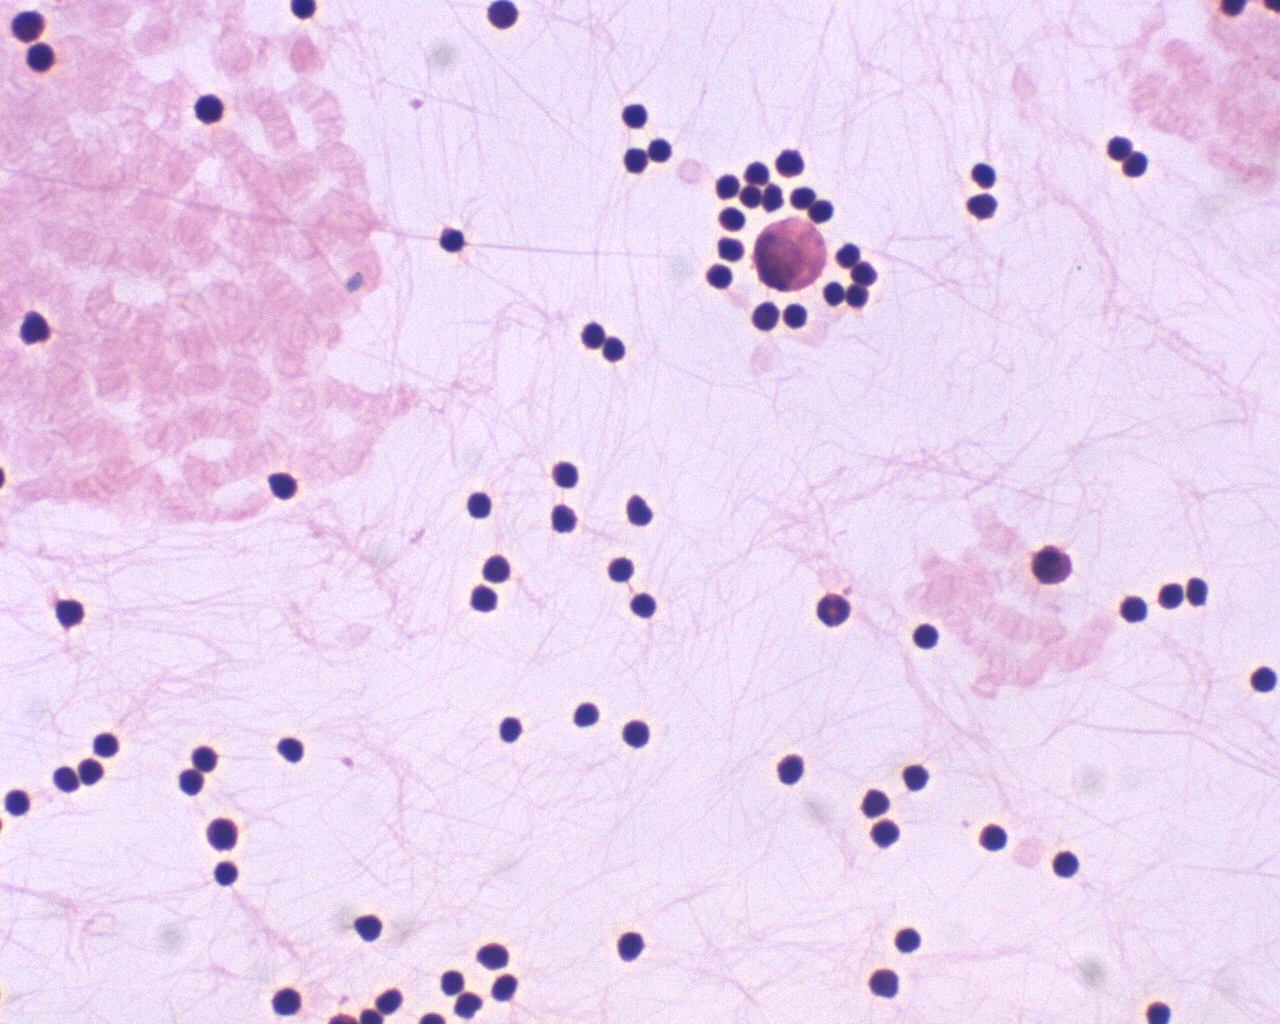lymph: (768, 748, 819, 795), (614, 711, 664, 757), (432, 215, 479, 262), (255, 466, 307, 505), (267, 982, 311, 1021), (623, 588, 665, 627), (188, 85, 227, 126), (543, 455, 586, 492), (612, 927, 652, 967), (463, 484, 501, 526), (907, 616, 949, 653), (749, 296, 784, 338), (23, 40, 60, 78), (479, 551, 519, 585), (602, 554, 643, 587), (898, 760, 936, 794), (433, 965, 473, 998), (1052, 845, 1088, 882), (1, 783, 36, 820), (890, 922, 929, 955), (866, 817, 905, 851), (482, 1, 520, 34), (976, 818, 1013, 853), (90, 728, 126, 763), (351, 910, 389, 944), (647, 132, 681, 167), (702, 260, 737, 295), (1118, 589, 1150, 626), (968, 160, 1005, 191), (616, 96, 652, 129), (1250, 658, 1280, 696), (211, 857, 246, 889), (493, 713, 527, 745)
meso: (752, 214, 833, 294)
